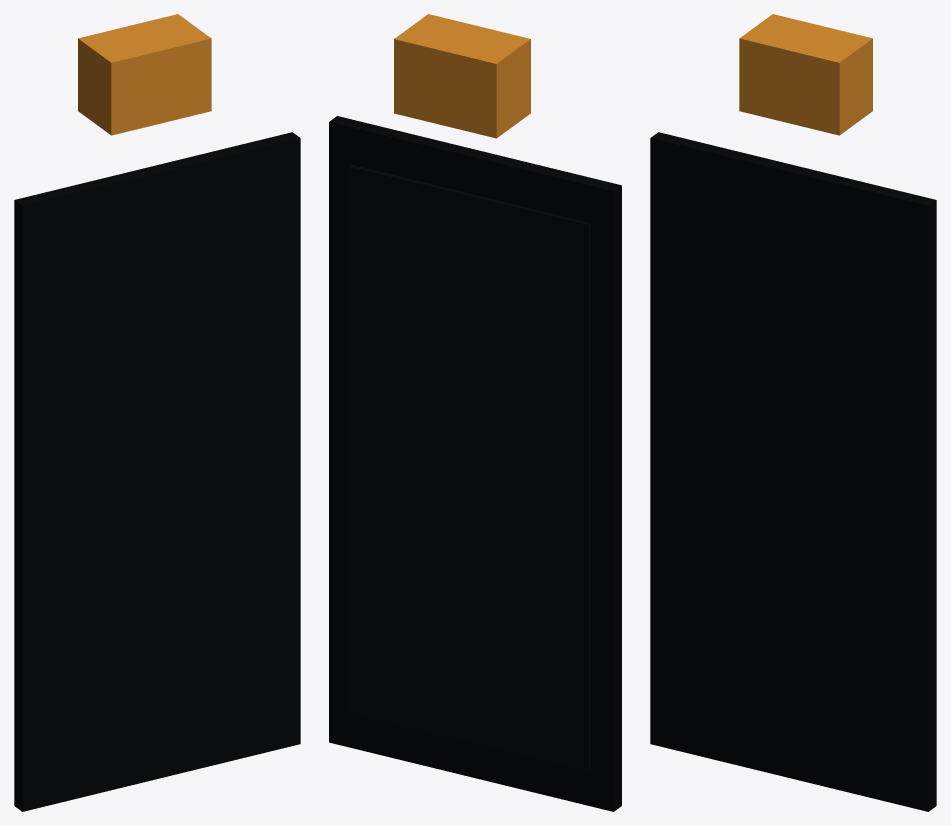
The model's file is NeonCityV5_Prop_Door.fbx.
The picture shows the model from 3 angles, left to right: view 1: azimuth 30°, elevation 25°; view 2: azimuth 150°, elevation 25°; view 3: azimuth 330°, elevation 25°; orthographic projection. The views are drawn at different scales.
Visible parts, largest first — view 1: NeonCityV5_Prop_Door; view 2: NeonCityV5_Prop_Door; view 3: NeonCityV5_Prop_Door.
Part boxes in pixels (<box>): NeonCityV5_Prop_Door: <box>14,14,300,811</box>; NeonCityV5_Prop_Door: <box>329,14,621,811</box>; NeonCityV5_Prop_Door: <box>650,14,936,811</box>.
Size of the model in its own units: 0.24 by 0.6 by 0.05.
